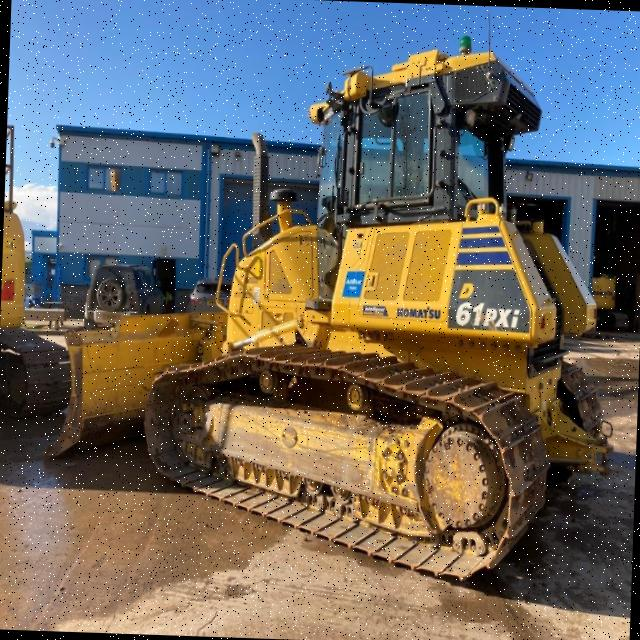Bulldozer: (42, 17, 634, 599)
